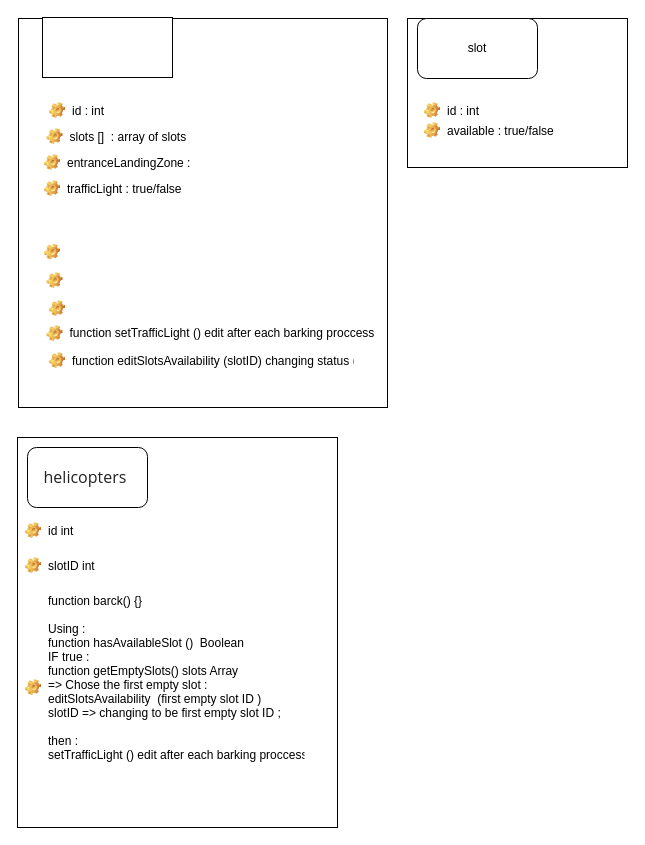
This 645x845 diagram has some shape labels left out. The centre of each missing label's shape, as x and y in pixels:
"function getEmptySlots() slots Array" belongs at [159,308].
"function hasAvailableSlot () Boolean" belongs at [162,251].
"function slotsNumber () int" belongs at [153,280].
"parking" belongs at [107,47].
